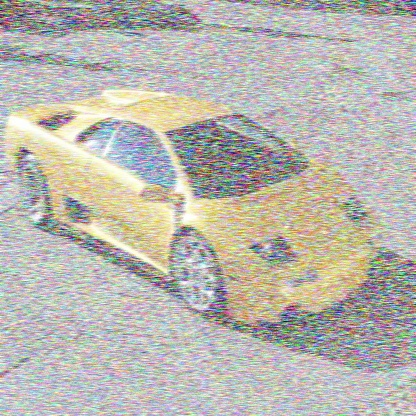Vehicle: (5, 90, 385, 335)
